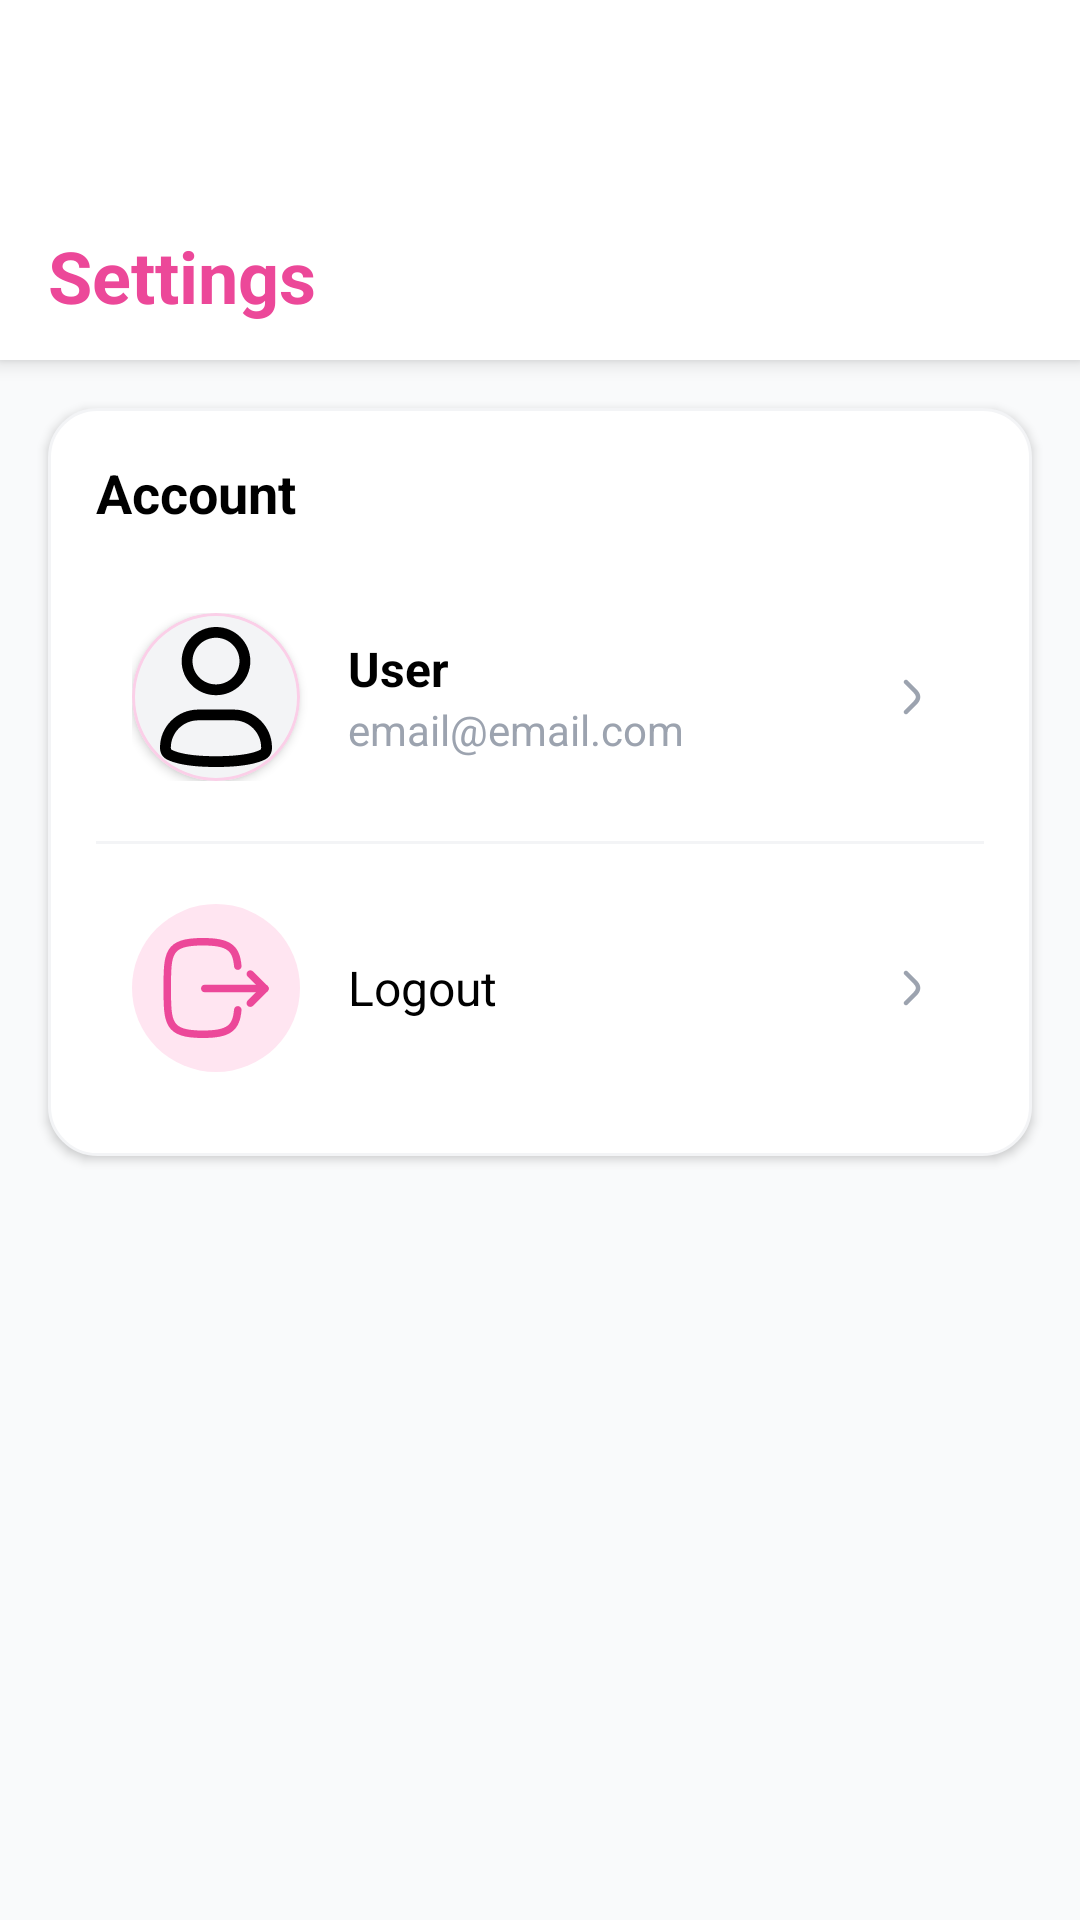

Where icons sit on this 1080 × 1920 app screen, as (x1, y1, x2, y2):
arrow right: (904, 680, 921, 714), (904, 971, 921, 1005)
